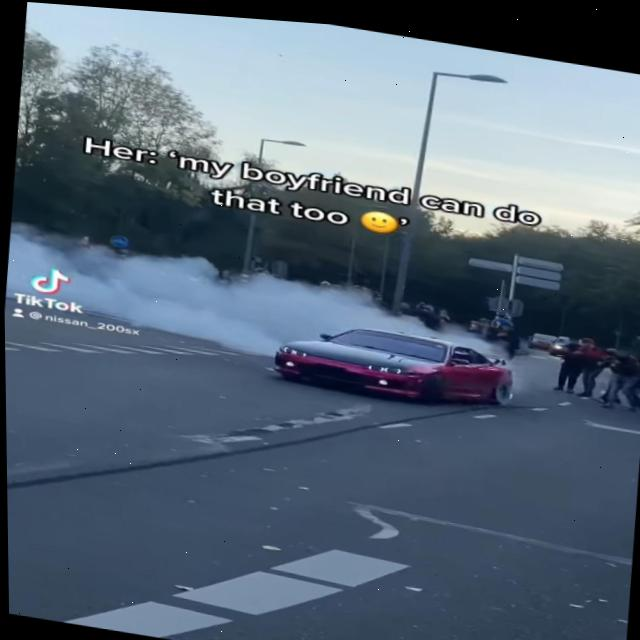vehicle: (270, 305, 522, 410)
